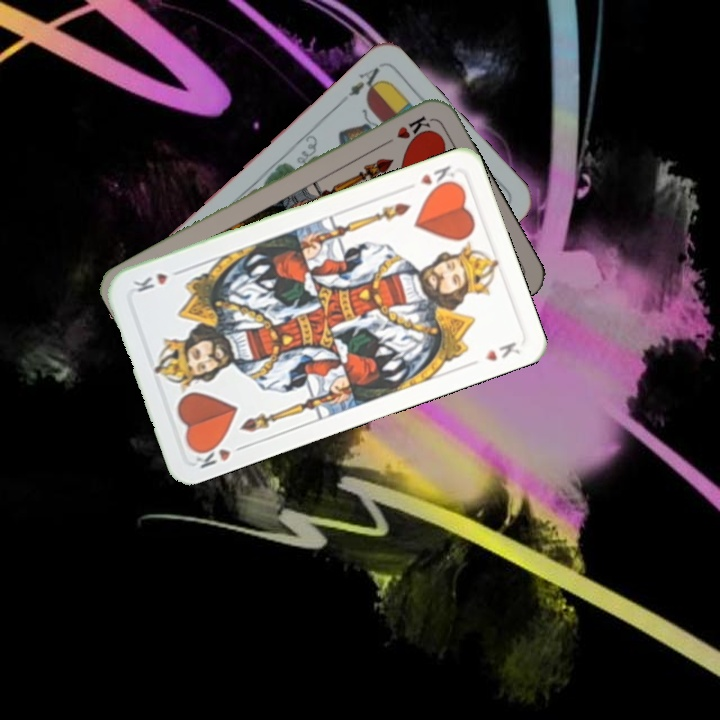EA: (344, 62, 387, 99)
HK: (377, 111, 434, 150), (190, 437, 249, 471), (416, 161, 458, 194)
